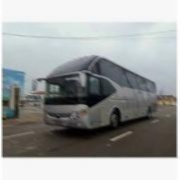bus: (38, 55, 158, 132)
